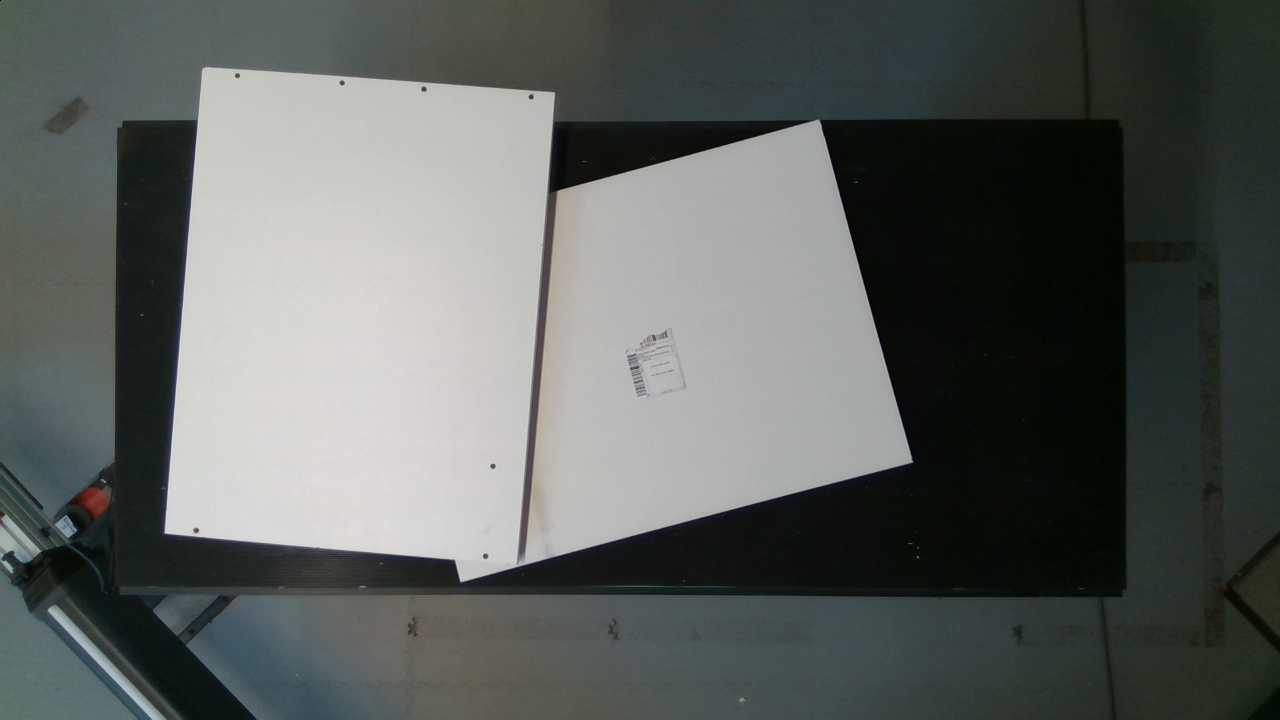barcode: (622, 324, 698, 405)
part2: (453, 114, 912, 600), (162, 48, 562, 585)
